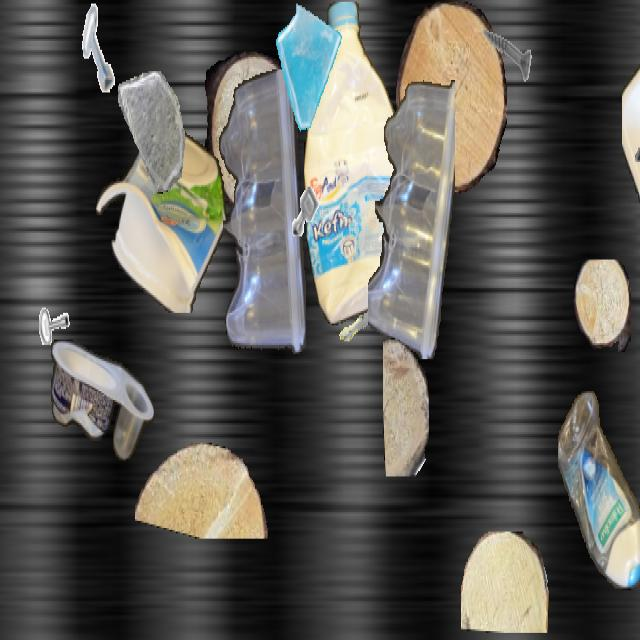glass: (272, 2, 346, 133), (118, 71, 186, 192)
metal: (322, 271, 380, 374), (474, 2, 532, 105), (74, 2, 126, 94), (29, 265, 73, 343), (284, 174, 326, 249), (625, 70, 640, 180)
plastic: (304, 2, 406, 325), (216, 69, 306, 361), (96, 124, 226, 313), (368, 73, 454, 357), (558, 391, 640, 590), (51, 340, 153, 460), (622, 2, 640, 340)
wood: (396, 2, 506, 194), (202, 52, 298, 212), (135, 442, 271, 538), (461, 532, 549, 631), (383, 338, 429, 476), (574, 260, 630, 352)
